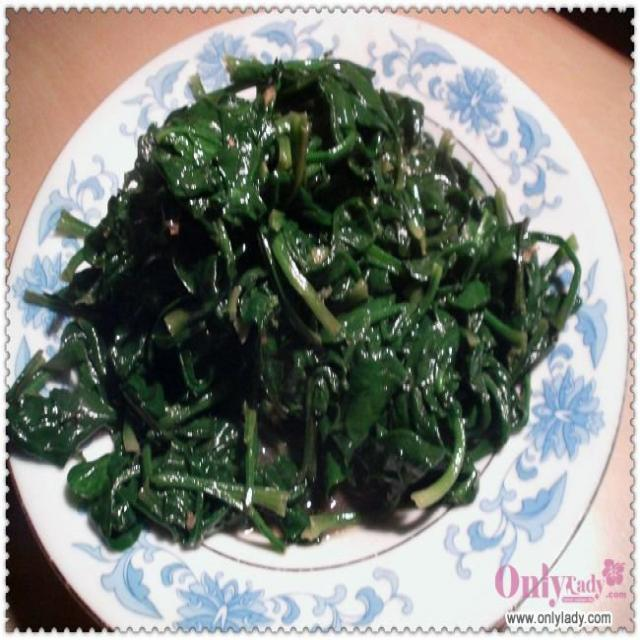蔬菜料理: (0, 0, 605, 589)
